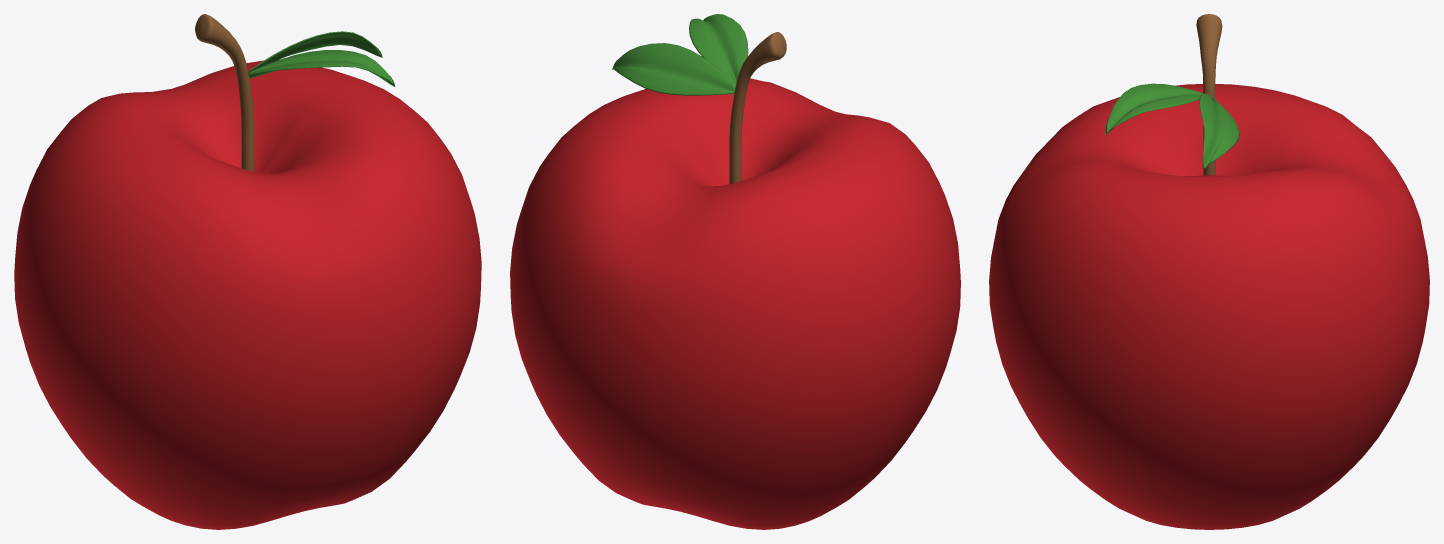
File: apple.glb
3 renders of one model, left to right at view 1: azimuth 30°, elevation 25°; view 2: azimuth 150°, elevation 25°; view 3: azimuth 270°, elevation 25°, orthographic. The views are drawn at different scales.
Parts seen in each view (by area): view 1: pPlane1; view 2: pPlane1; view 3: pPlane1.
Part boxes in pixels (<box>): pPlane1: <box>14,14,481,529</box>; pPlane1: <box>510,14,960,529</box>; pPlane1: <box>989,14,1429,529</box>.
Size of the model in its own units: 1.67 by 1.92 by 1.67.
Materials: 1 (1 with a texture image).
